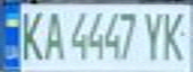4: (66, 7, 90, 61), (84, 7, 106, 61), (103, 8, 124, 61)
7: (118, 8, 142, 61)
A: (39, 7, 66, 61)
K: (160, 7, 190, 63), (15, 7, 45, 61)
Y: (139, 7, 169, 62)
